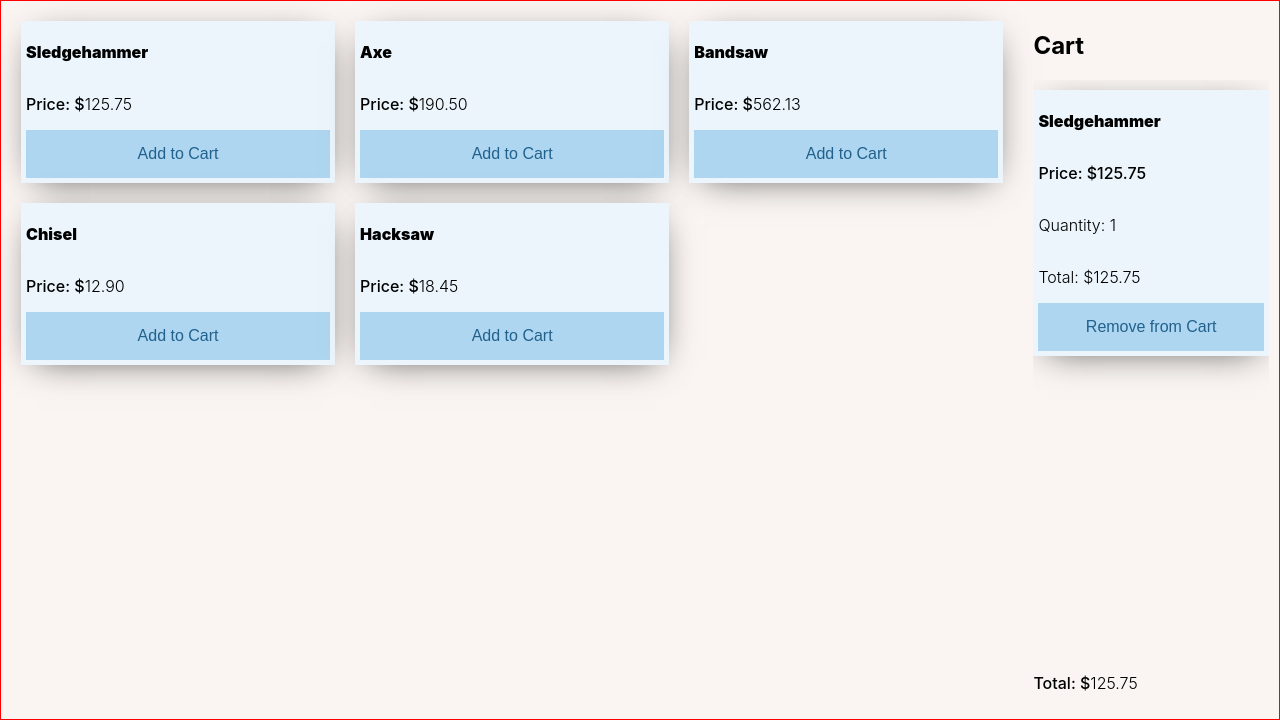
Test: on clicking "Remove from Cart" button it should remove product from the cart.
Click the 1st button "Add to Cart" at point(178, 154), box [26,130,330,178]
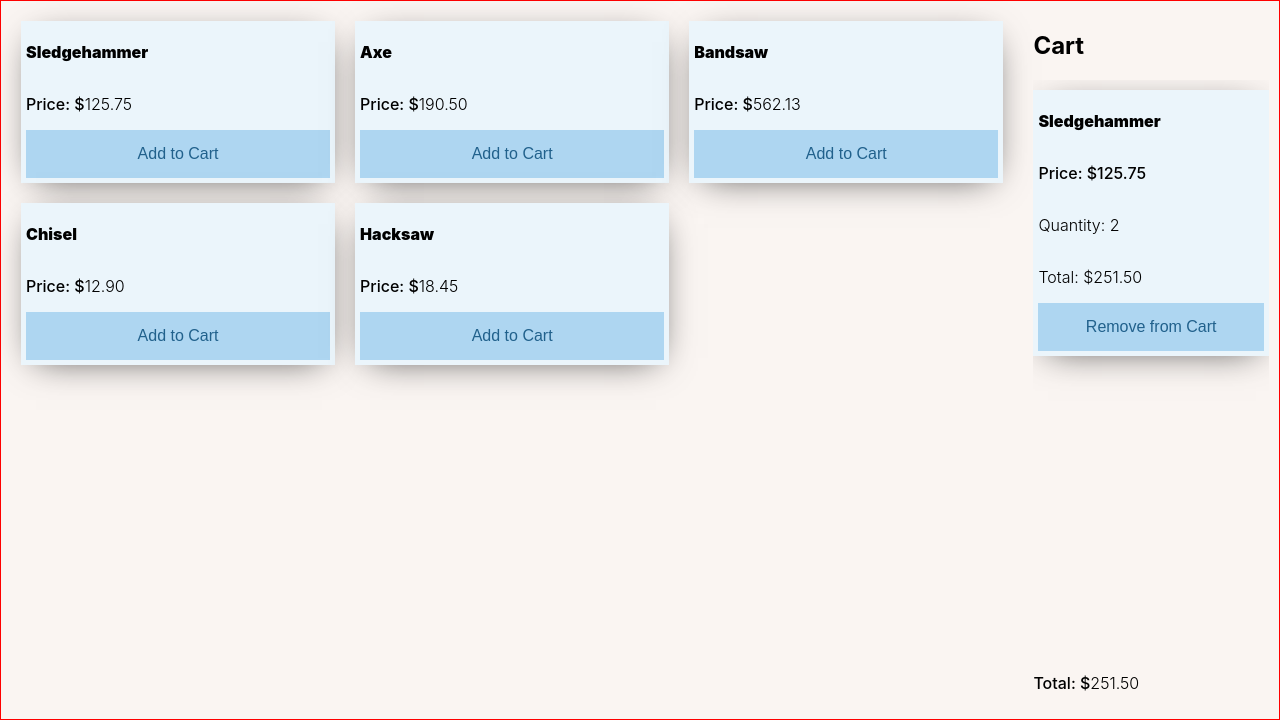
Click the button "Remove from Cart" at point(1151, 327), box [1038,303,1264,351]
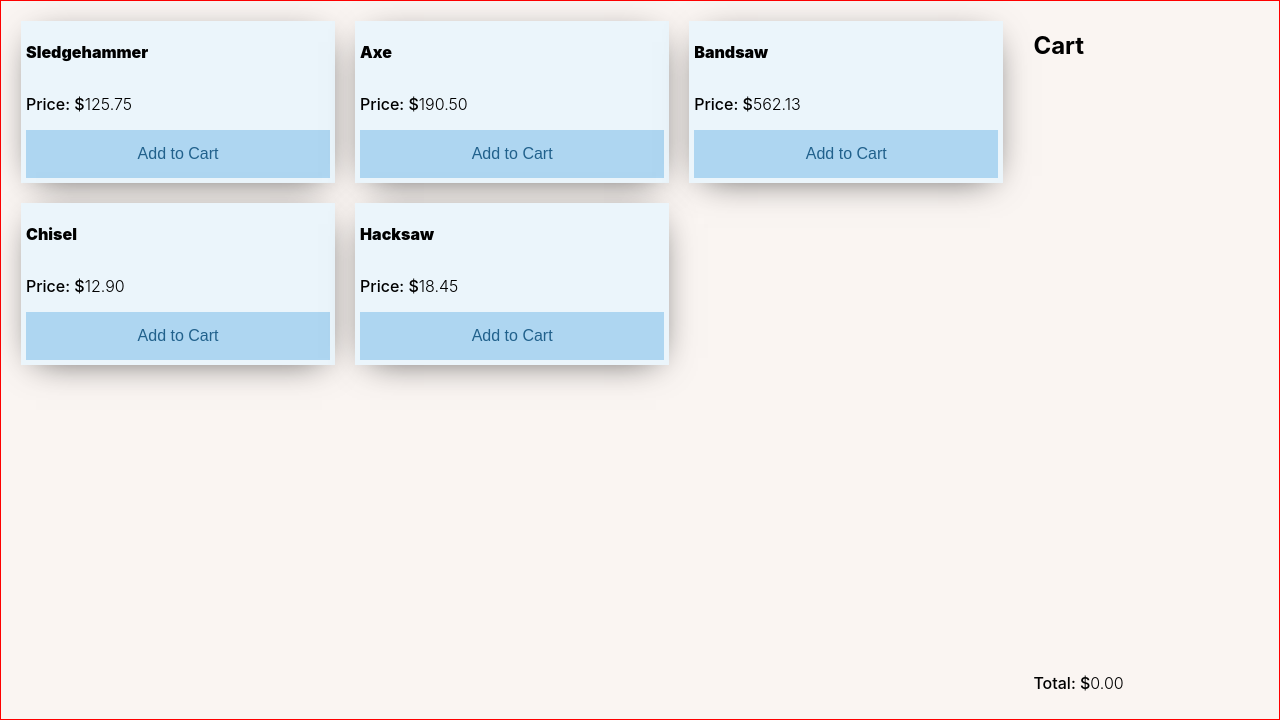
Now the button "Remove from Cart" is gone
